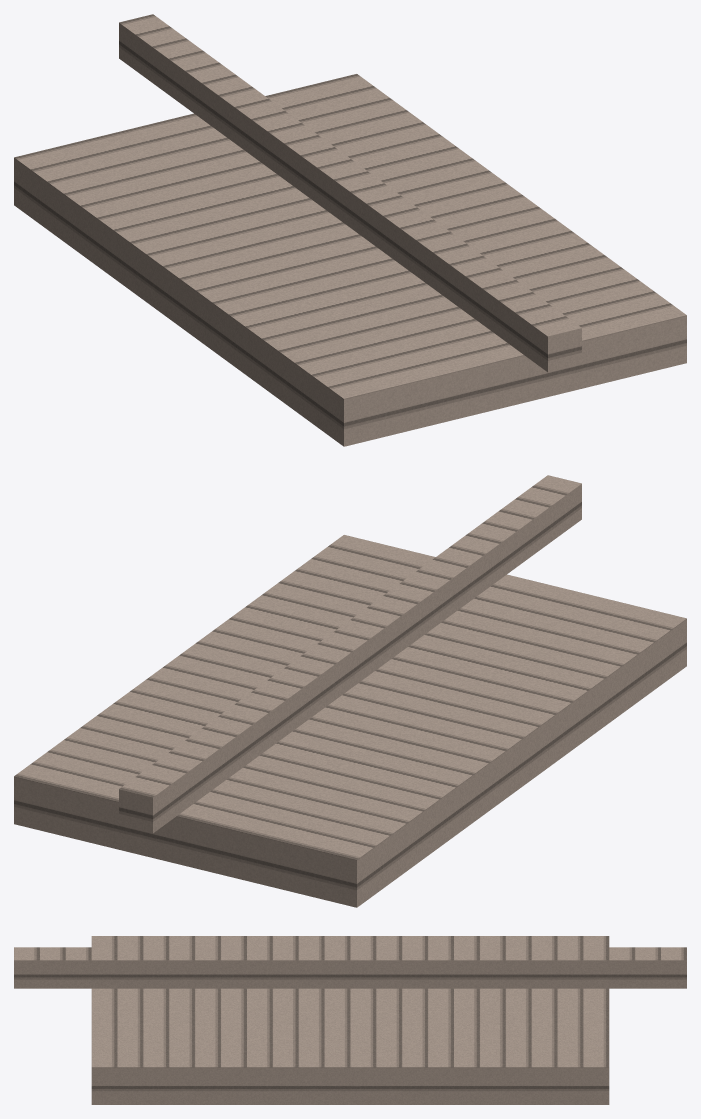
The model's file is baler.glb.
3 renders of one model, top to bottom at view 1: azimuth 30°, elevation 25°; view 2: azimuth 150°, elevation 25°; view 3: azimuth 270°, elevation 25°, orthographic. The views are drawn at different scales.
Visible parts, largest first — view 1: baler-col; view 2: baler-col; view 3: baler-col.
Boxes of the visible parts, x1,y1,x2,y2 form: baler-col: (14, 14, 686, 446); baler-col: (14, 475, 686, 907); baler-col: (14, 936, 686, 1104).
Bounding box in the file's own units: 1.5 × 0.455 × 3.25.
1 material, 1 textured.
